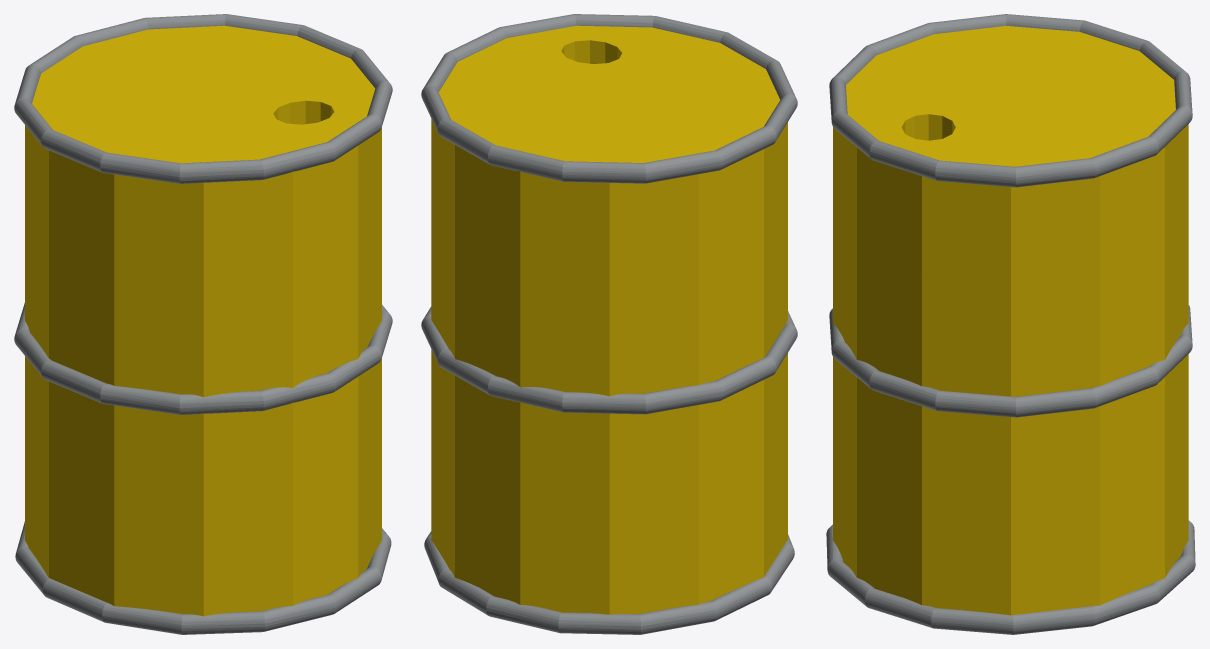
The model's file is barrel2.glb.
3 views of the same model, side by side, from view 1: azimuth 30°, elevation 25°; view 2: azimuth 150°, elevation 25°; view 3: azimuth 270°, elevation 25° (orthographic).
Visible parts, largest first — view 1: Mesh_Mesh_head_geo.001_lambert2SG.001; view 2: Mesh_Mesh_head_geo.001_lambert2SG.001; view 3: Mesh_Mesh_head_geo.001_lambert2SG.001.
Part boxes in pixels (<box>): Mesh_Mesh_head_geo.001_lambert2SG.001: <box>14,14,392,634</box>; Mesh_Mesh_head_geo.001_lambert2SG.001: <box>421,14,797,634</box>; Mesh_Mesh_head_geo.001_lambert2SG.001: <box>826,14,1195,634</box>.
Size of the model in its own units: 0.00266 by 0.00363 by 0.00259.
